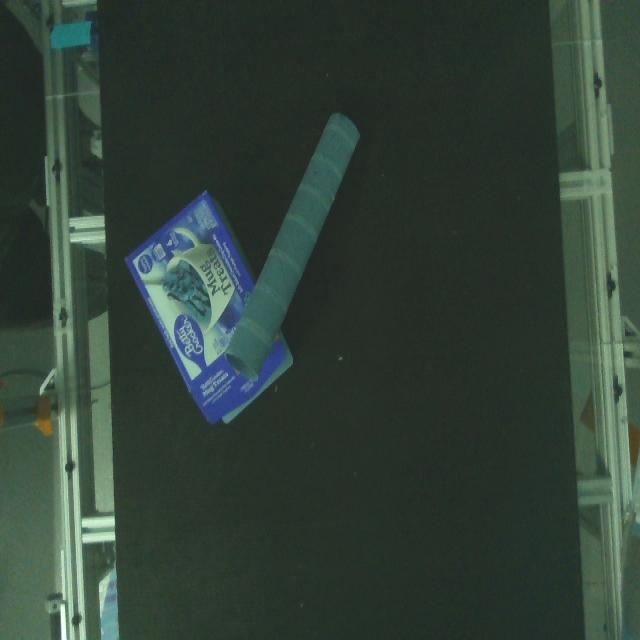paper: (122, 192, 295, 436), (221, 104, 363, 378)
